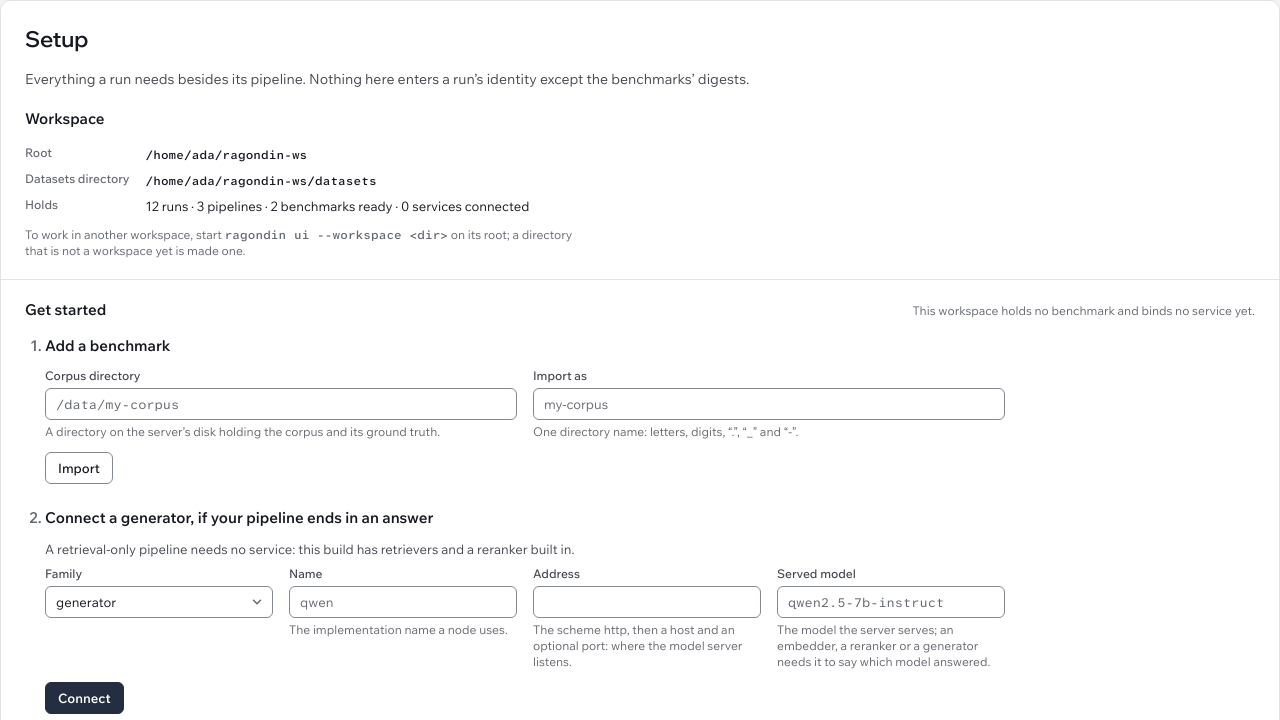
the first launch › adding a benchmark leaves the first launch state
The width and height of the screenshot is (1280, 720).
Type "/data/notes" into the field labelled "Corpus directory" at (281, 404), box [45,388,517,420]
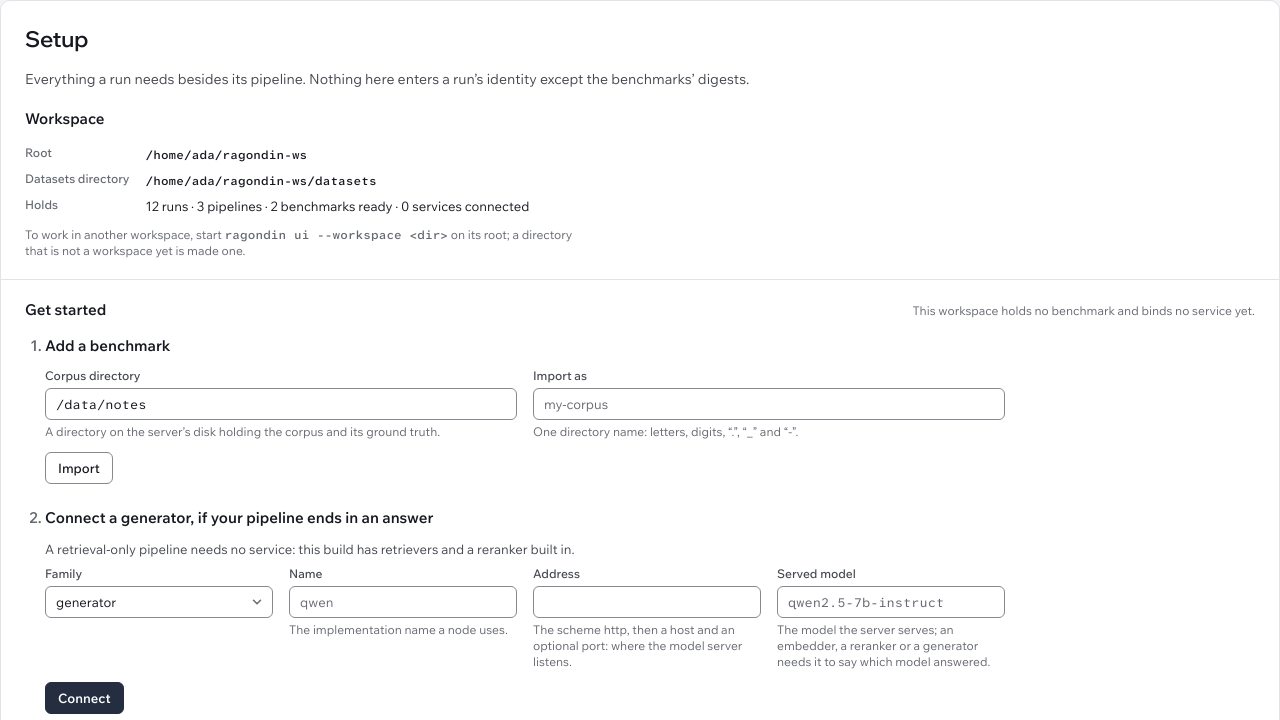
Type "notes" into the field labelled "Import as" at (769, 404), box [533,388,1005,420]
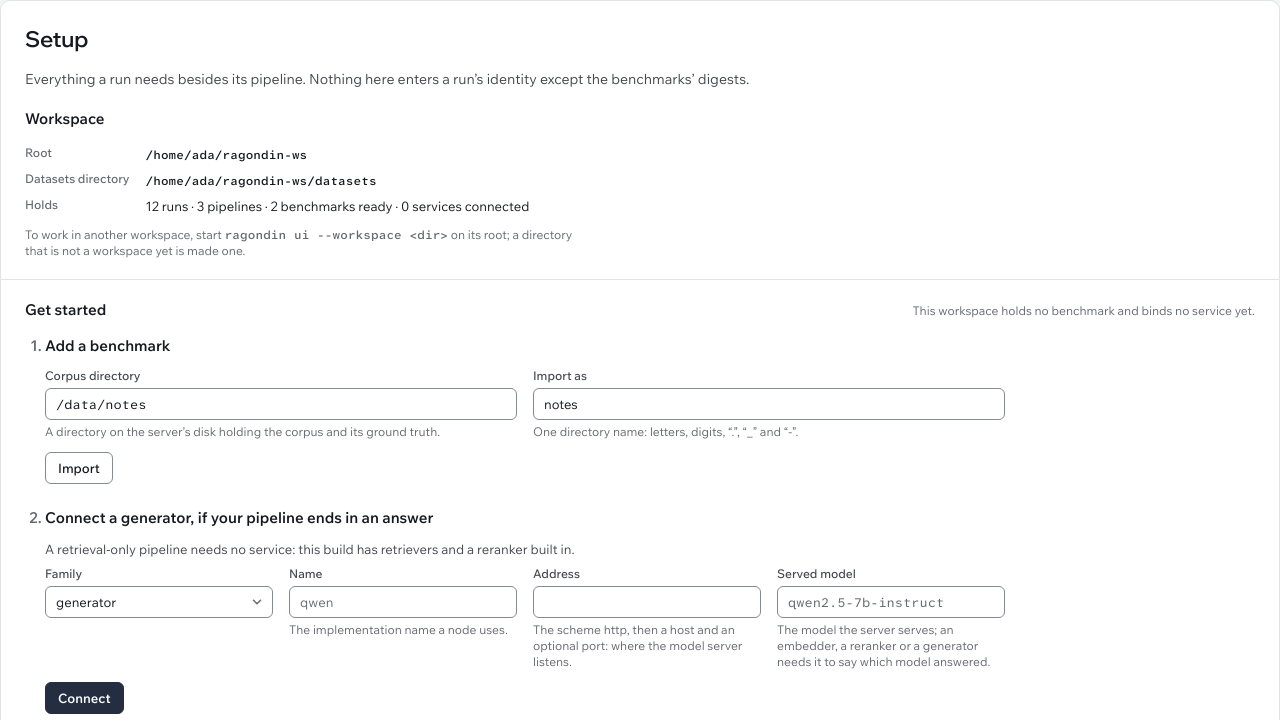
Click the button "Import" at (79, 468), box [45,452,113,484]
(page scrolled)
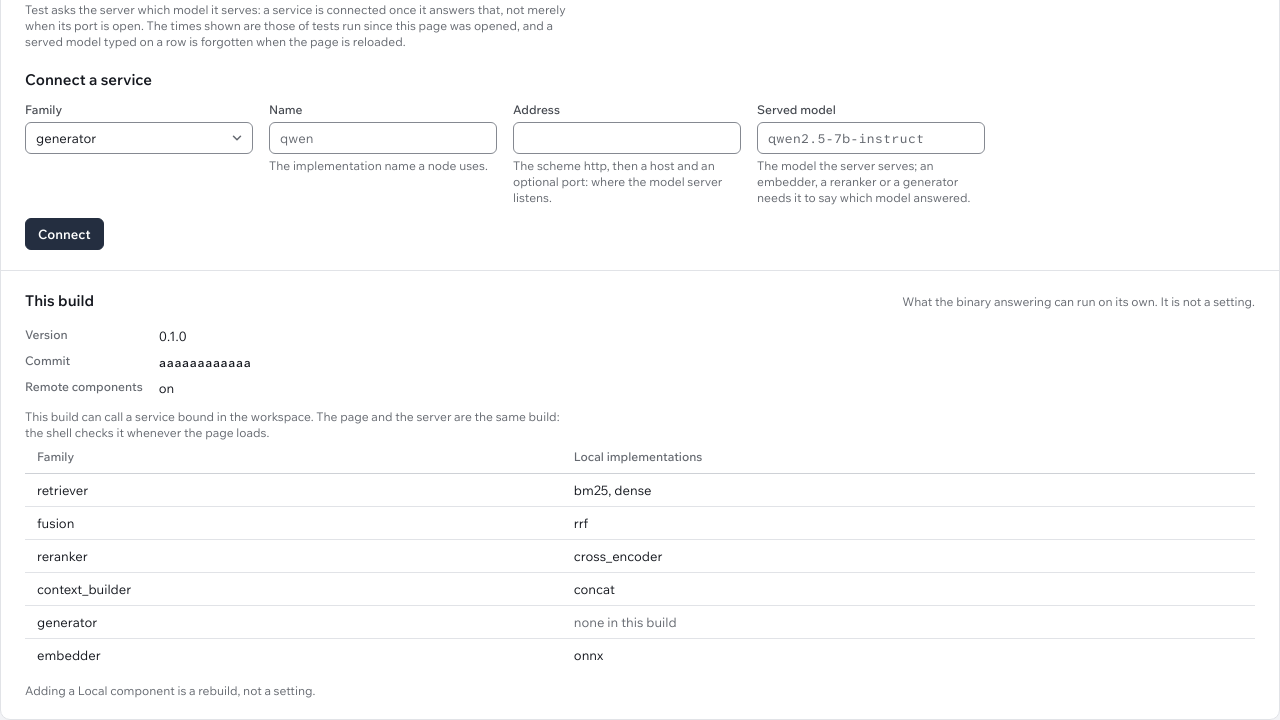
expect the heading "Get started" is gone: met
expect the element "This build" is shown: met
